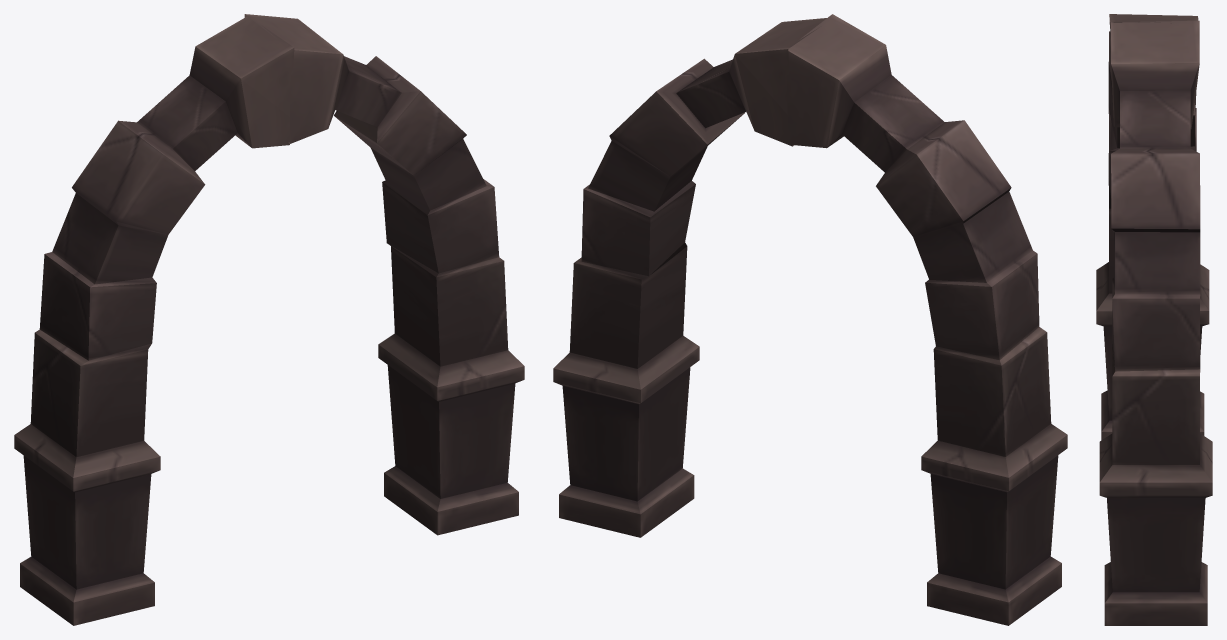
The model's file is gate_3.fbx.
3 renders of one model, left to right at view 1: azimuth 30°, elevation 25°; view 2: azimuth 150°, elevation 25°; view 3: azimuth 270°, elevation 25°, orthographic. The views are drawn at different scales.
Visible parts, largest first — view 1: gate_3; view 2: gate_3; view 3: gate_3.
Boxes of the visible parts, left/top/right/bottom form: gate_3: left=14, top=14, right=524, bottom=625; gate_3: left=553, top=14, right=1067, bottom=625; gate_3: left=1096, top=14, right=1212, bottom=625.
Bounding box in the file's own units: 2.38 × 2.61 × 0.551.
